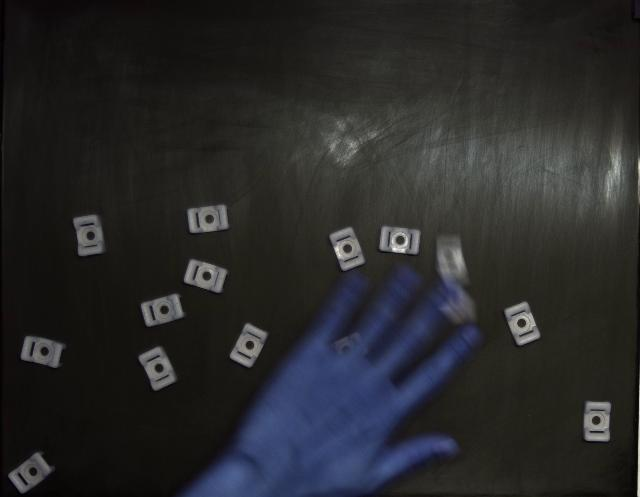first_side: (9, 452, 55, 494), (139, 346, 178, 391), (230, 324, 268, 368), (504, 302, 540, 346), (329, 228, 365, 271), (20, 336, 66, 369), (141, 294, 185, 328), (184, 260, 228, 294), (72, 215, 105, 258), (188, 205, 230, 234), (379, 226, 421, 255), (584, 401, 611, 442)
